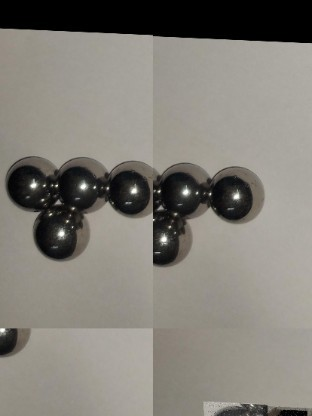ironball: (26, 206, 92, 268), (1, 151, 63, 214), (209, 161, 269, 223), (156, 158, 213, 221), (102, 160, 150, 221), (56, 155, 107, 212), (155, 206, 192, 273), (0, 329, 33, 363), (201, 400, 268, 415)
